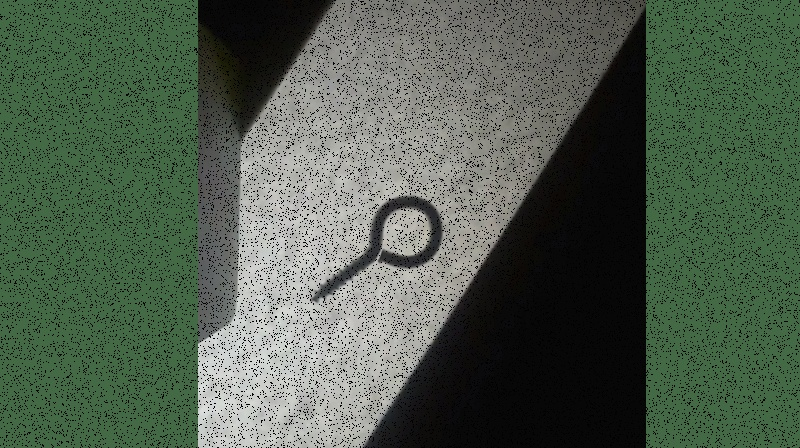O001: (305, 191, 443, 305)
